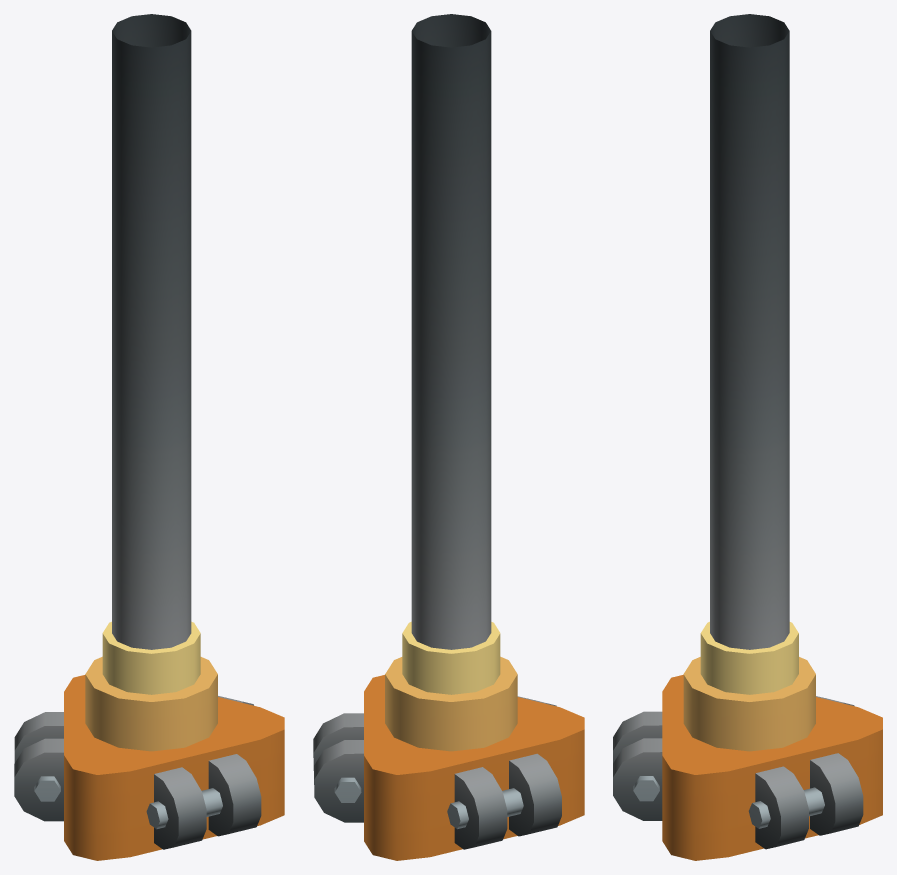
The model's file is Claw_Piston_02.fbx.
3 views of the same model, side by side, from view 1: azimuth 30°, elevation 25°; view 2: azimuth 150°, elevation 25°; view 3: azimuth 270°, elevation 25° (orthographic).
Parts seen in each view (by area): view 1: Claw_Piston_02; view 2: Claw_Piston_02; view 3: Claw_Piston_02.
Boxes of the visible parts, x1=… form: Claw_Piston_02: x1=14, y1=14, x2=284, y2=860; Claw_Piston_02: x1=313, y1=14, x2=584, y2=860; Claw_Piston_02: x1=613, y1=14, x2=882, y2=860.
Bounding box in the file's own units: 10 × 9.49 × 30.2.
